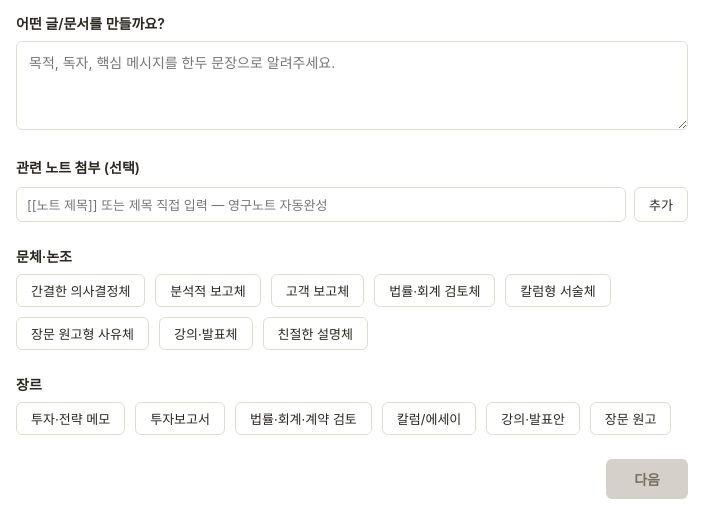
Scenario: Step1Seed — 톤 변경 → 장르 자동 추천 › 톤을 분석적 보고체로 바꾸면 장르가 투자보고서로 추천된다
The image size is (705, 516).
Click the radio button labelled "분석적 보고체" at (208, 291), box [155,274,261,307]
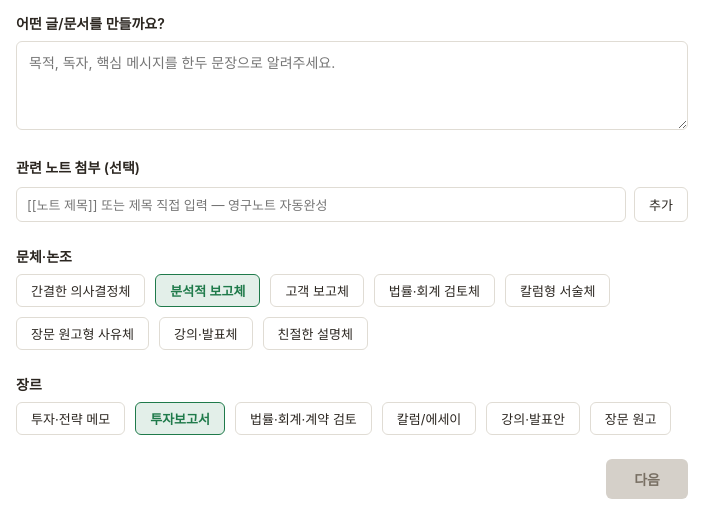
Expected: the radio button labelled "투자보고서" is checked, [135,402,225,435]
